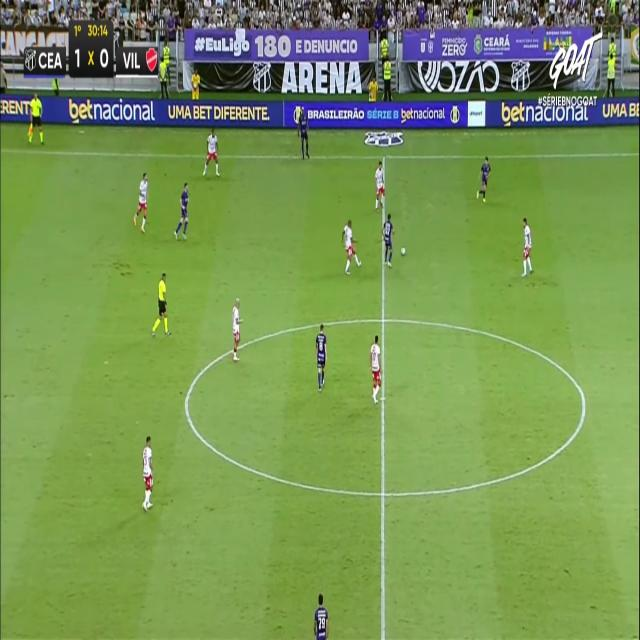ball: (397, 243, 408, 261)
player: (341, 219, 361, 275), (314, 585, 333, 640), (132, 171, 148, 233), (173, 181, 189, 240), (142, 436, 154, 511), (202, 127, 220, 176), (370, 334, 382, 404), (315, 323, 327, 392), (381, 213, 395, 268), (231, 297, 243, 360), (521, 217, 533, 276), (476, 156, 490, 203), (297, 106, 309, 159), (374, 161, 385, 210)
referee: (151, 271, 171, 337), (27, 91, 45, 145)
